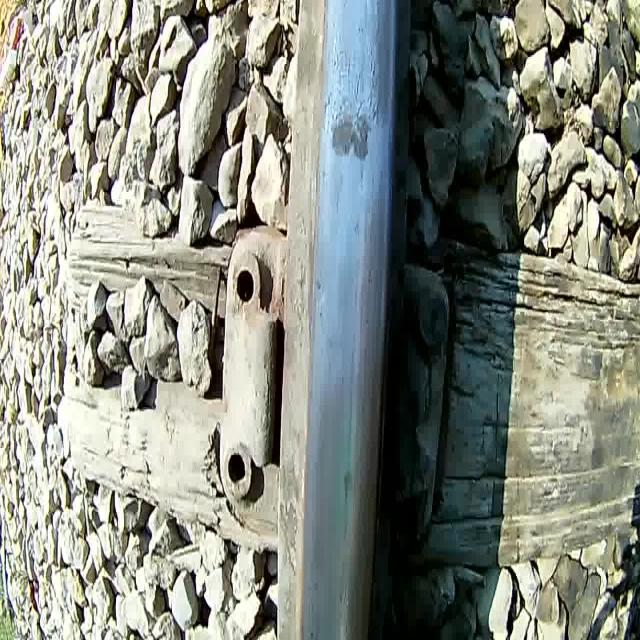Squats: (326, 109, 374, 167)
